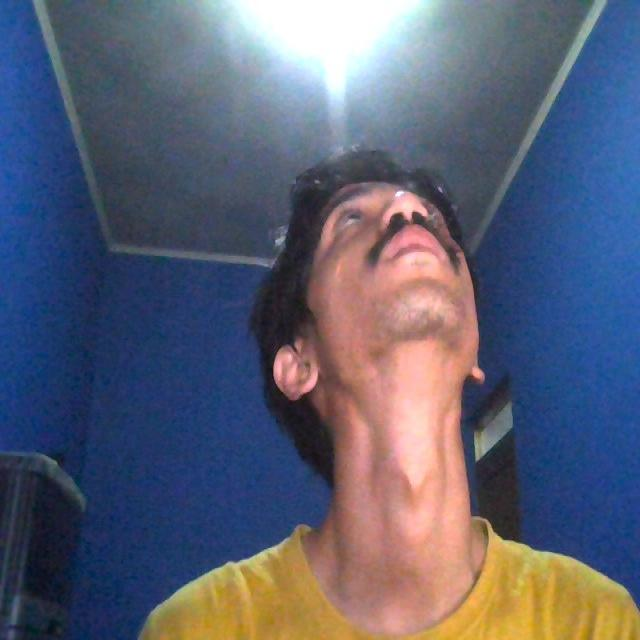Melihat keatas: (225, 146, 539, 466)
